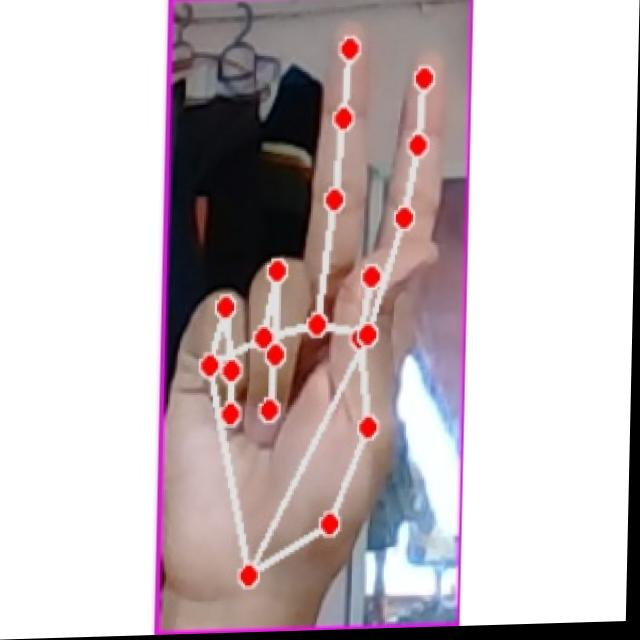K: (174, 22, 462, 607)
